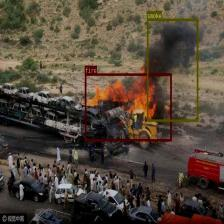fire: (84, 73, 172, 141)
smoke: (146, 19, 198, 122)
